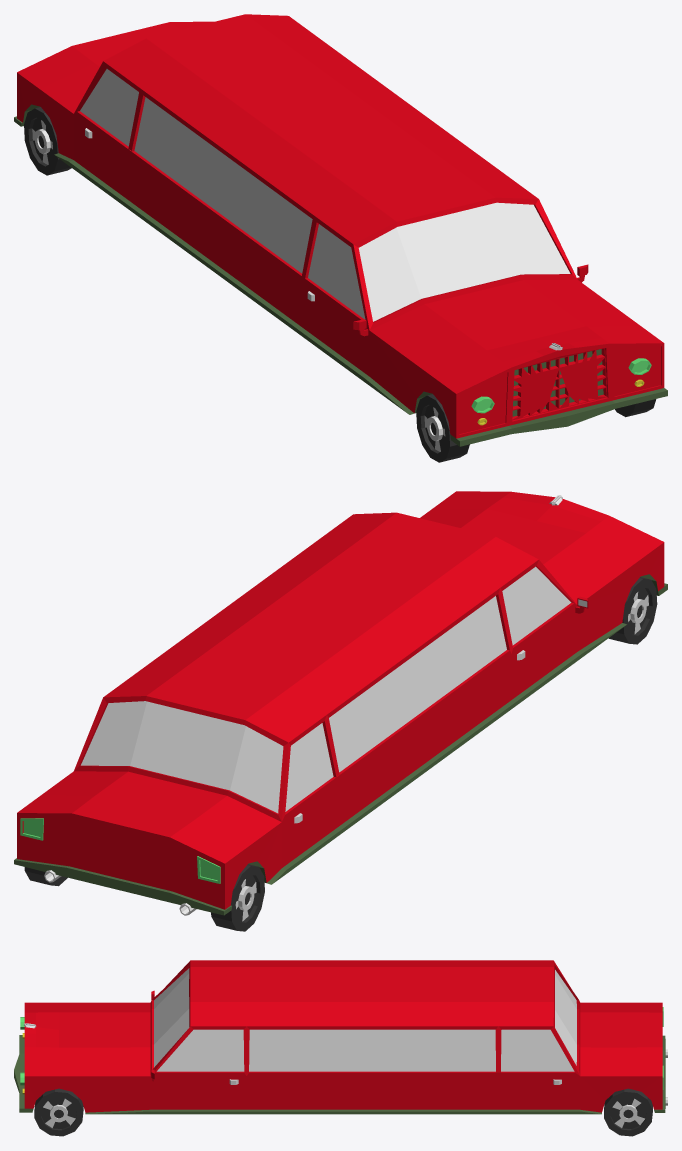
Rendered from Car.fbx.
3 views of the same model, one above another, from view 1: azimuth 30°, elevation 25°; view 2: azimuth 150°, elevation 25°; view 3: azimuth 270°, elevation 25° (orthographic). The views are drawn at different scales.
Visible parts, largest first — view 1: Body, Front Wheels, Wheels; view 2: Body, Wheels, Front Wheels; view 3: Body, Front Wheels, Wheels.
Boxes of the visible parts, x1,y1,x2,y2 form: Body: (14,14,667,446); Front Wheels: (416,394,656,462); Wheels: (24,107,71,175); Body: (14,491,667,915); Wheels: (24,864,264,931); Front Wheels: (608,577,657,644); Body: (14,960,665,1114); Front Wheels: (34,1088,83,1136); Wheels: (604,1088,652,1136).
Bounding box in the file's own units: 417 × 269 × 1384.
